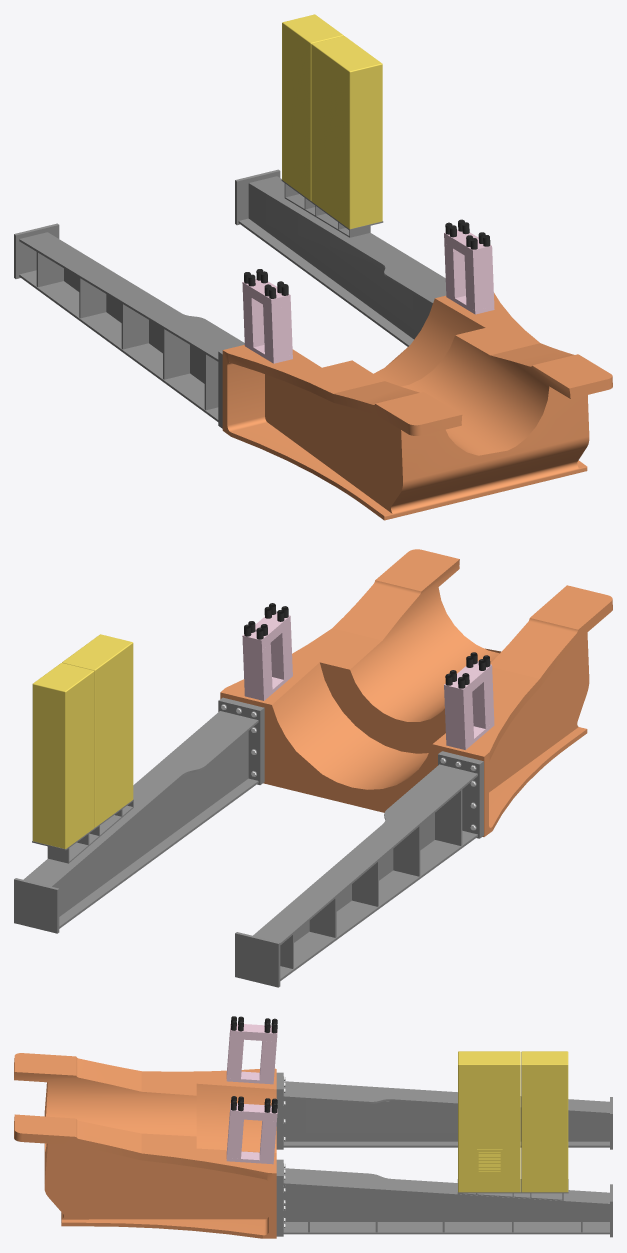
The picture shows the model from 3 angles, top to bottom: view 1: azimuth 30°, elevation 25°; view 2: azimuth 150°, elevation 25°; view 3: azimuth 270°, elevation 25°; orthographic projection. The views are drawn at different scales.
Visible parts, largest first — view 1: front, right, left, left_1, right_1, _0C6E641F3DC18749666DF3C59C03E7384C05AFCA___BA5B618AEAB0_2c2, _0C6E641F3DC18749666DF3C59C03E7384C05AFCA___D9530E4FE582_52a, cabinet_base, _0C6E641F3DC18749666DF3C59C03E7384C05AFCA___384428368B41_877, _0C6E641F3DC18749666DF3C59C03E7384C05AFCA___3C15D51E979B_808, _0C6E641F3DC18749666DF3C59C03E7384C05AFCA___424401641D3B_1be, _0C6E641F3DC18749666DF3C59C03E7384C05AFCA___10A6935080BB_d1c; view 2: front, right, left, right_1, left_1, _0C6E641F3DC18749666DF3C59C03E7384C05AFCA___3C15D51E979B_808, _0C6E641F3DC18749666DF3C59C03E7384C05AFCA___384428368B41_877, cabinet_base, _0C6E641F3DC18749666DF3C59C03E7384C05AFCA___BA5B618AEAB0_2c2, _0C6E641F3DC18749666DF3C59C03E7384C05AFCA___D9530E4FE582_52a, _0C6E641F3DC18749666DF3C59C03E7384C05AFCA___424401641D3B_1be, _0C6E641F3DC18749666DF3C59C03E7384C05AFCA___10A6935080BB_d1c; view 3: front, left, right, left_1, right_1, cabinet_base, _0C6E641F3DC18749666DF3C59C03E7384C05AFCA___10A6935080BB_d1c, _0C6E641F3DC18749666DF3C59C03E7384C05AFCA___424401641D3B_1be, _0C6E641F3DC18749666DF3C59C03E7384C05AFCA___D9530E4FE582_52a, _0C6E641F3DC18749666DF3C59C03E7384C05AFCA___3C15D51E979B_808, _0C6E641F3DC18749666DF3C59C03E7384C05AFCA___384428368B41_877, _0C6E641F3DC18749666DF3C59C03E7384C05AFCA___BA5B618AEAB0_2c2 (+2 smaller).
Part boxes in pixels (box(x1,y1,x2,y2)): front: box(222, 293, 612, 520); right: box(14, 223, 244, 428); left: box(235, 169, 446, 346); left_1: box(311, 36, 382, 229); right_1: box(282, 14, 343, 200); _0C6E641F3DC18749666DF3C59C03E7384C05AFCA___BA5B618AEAB0_2c2: box(263, 305, 292, 359); _0C6E641F3DC18749666DF3C59C03E7384C05AFCA___D9530E4FE582_52a: box(464, 256, 494, 310); cabinet_base: box(281, 179, 383, 237); _0C6E641F3DC18749666DF3C59C03E7384C05AFCA___384428368B41_877: box(243, 292, 264, 347); _0C6E641F3DC18749666DF3C59C03E7384C05AFCA___3C15D51E979B_808: box(444, 243, 465, 298); _0C6E641F3DC18749666DF3C59C03E7384C05AFCA___424401641D3B_1be: box(444, 229, 492, 260); _0C6E641F3DC18749666DF3C59C03E7384C05AFCA___10A6935080BB_d1c: box(242, 278, 290, 309); front: box(220, 549, 612, 836); right: box(235, 751, 483, 987); left: box(14, 697, 264, 933); right_1: box(32, 663, 94, 848); left_1: box(62, 634, 133, 827); _0C6E641F3DC18749666DF3C59C03E7384C05AFCA___3C15D51E979B_808: box(243, 643, 272, 697); _0C6E641F3DC18749666DF3C59C03E7384C05AFCA___384428368B41_877: box(444, 692, 473, 746); cabinet_base: box(32, 799, 133, 863); _0C6E641F3DC18749666DF3C59C03E7384C05AFCA___BA5B618AEAB0_2c2: box(472, 674, 494, 728); _0C6E641F3DC18749666DF3C59C03E7384C05AFCA___D9530E4FE582_52a: box(270, 625, 292, 679); _0C6E641F3DC18749666DF3C59C03E7384C05AFCA___424401641D3B_1be: box(242, 612, 290, 649); _0C6E641F3DC18749666DF3C59C03E7384C05AFCA___10A6935080BB_d1c: box(444, 661, 492, 699); front: box(14, 1053, 276, 1238); left: box(276, 1159, 612, 1237); right: box(276, 1072, 612, 1149); left_1: box(458, 1051, 520, 1192); right_1: box(521, 1051, 568, 1192); cabinet_base: box(457, 1179, 568, 1200); _0C6E641F3DC18749666DF3C59C03E7384C05AFCA___10A6935080BB_d1c: box(230, 1023, 277, 1041); _0C6E641F3DC18749666DF3C59C03E7384C05AFCA___424401641D3B_1be: box(230, 1103, 277, 1121); _0C6E641F3DC18749666DF3C59C03E7384C05AFCA___D9530E4FE582_52a: box(227, 1112, 243, 1158); _0C6E641F3DC18749666DF3C59C03E7384C05AFCA___3C15D51E979B_808: box(259, 1120, 276, 1160); _0C6E641F3DC18749666DF3C59C03E7384C05AFCA___384428368B41_877: box(259, 1041, 276, 1081); _0C6E641F3DC18749666DF3C59C03E7384C05AFCA___BA5B618AEAB0_2c2: box(227, 1033, 243, 1078).
Bounding box in the file's own units: 328 × 250 × 764.
